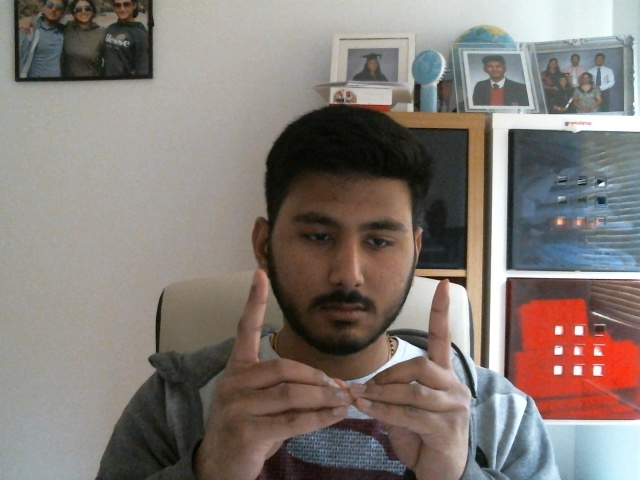meet: (226, 270, 455, 428)
